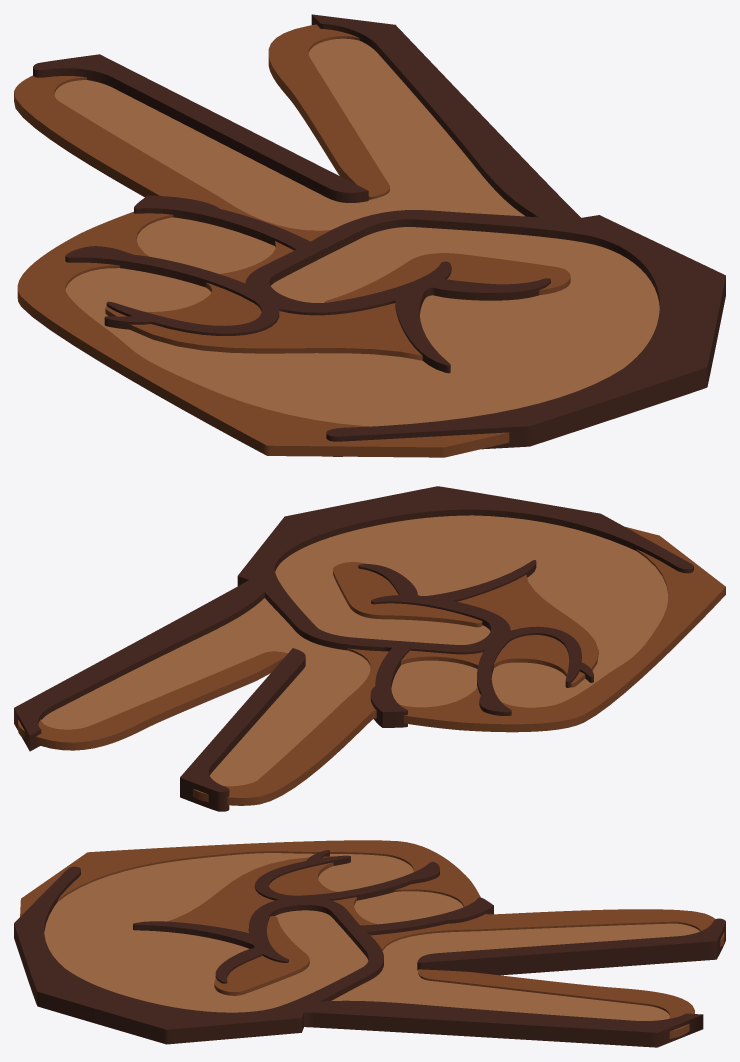
File: emoji_u270c_1f3fe.glb
The picture shows the model from 3 angles, top to bottom: view 1: azimuth 30°, elevation 25°; view 2: azimuth 150°, elevation 25°; view 3: azimuth 270°, elevation 25°; orthographic projection. The views are drawn at different scales.
Visible parts, largest first — view 1: emoji_u270c_1f3fe; view 2: emoji_u270c_1f3fe; view 3: emoji_u270c_1f3fe.
Boxes of the visible parts, x1,y1,x2,y2 form: emoji_u270c_1f3fe: (14,14,725,457); emoji_u270c_1f3fe: (14,486,725,811); emoji_u270c_1f3fe: (14,840,725,1047).
Bounding box in the file's own units: 0.0228 × 0.001 × 0.0349.
